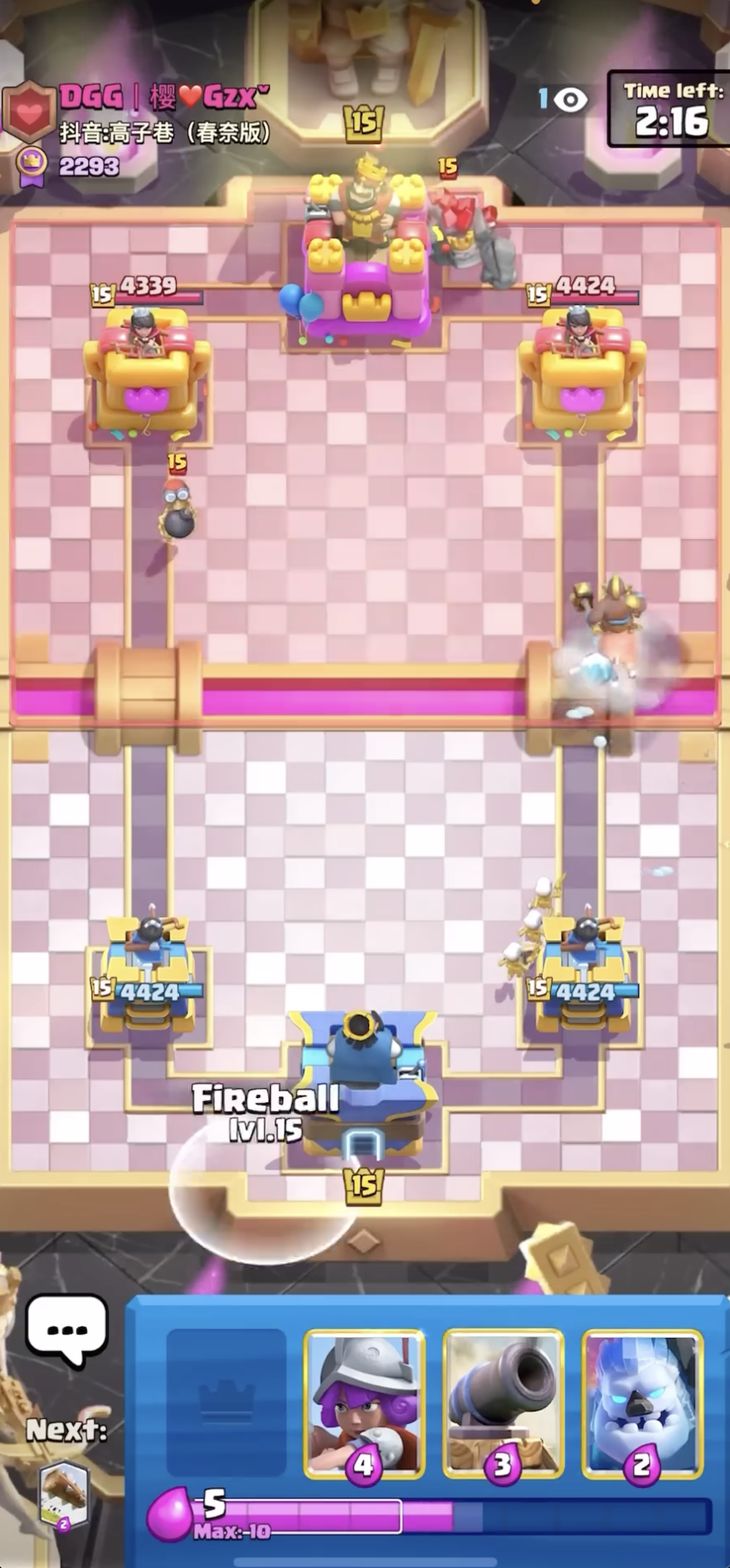hog-rider: (564, 557, 649, 682)
ice-spirit: (570, 645, 620, 690)
skeleton: (529, 873, 566, 922), (514, 908, 548, 953), (494, 940, 531, 981)
